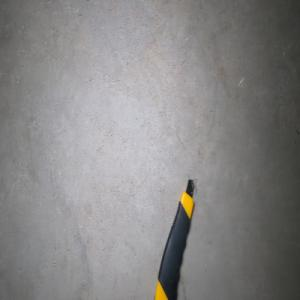Cutter: (153, 178, 195, 300)
